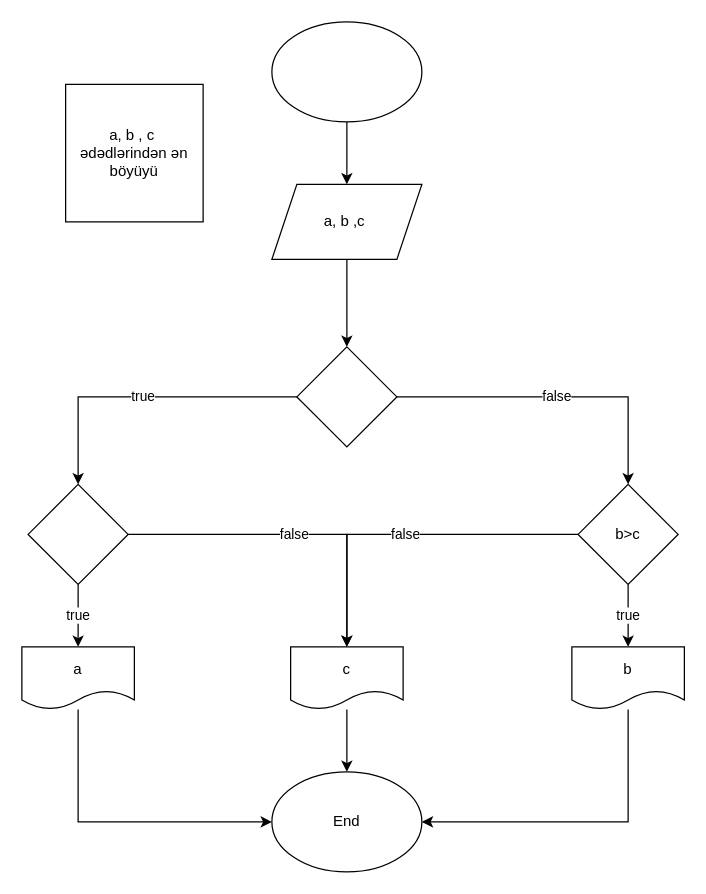
Image size: 706x894. Some labels were removed from this diagram. The centre of each missing label's shape, as x and y in pixels:
"a > b" belongs at (x=346, y=396).
"a > c" belongs at (x=77, y=533).
"start" belongs at (x=346, y=71).
